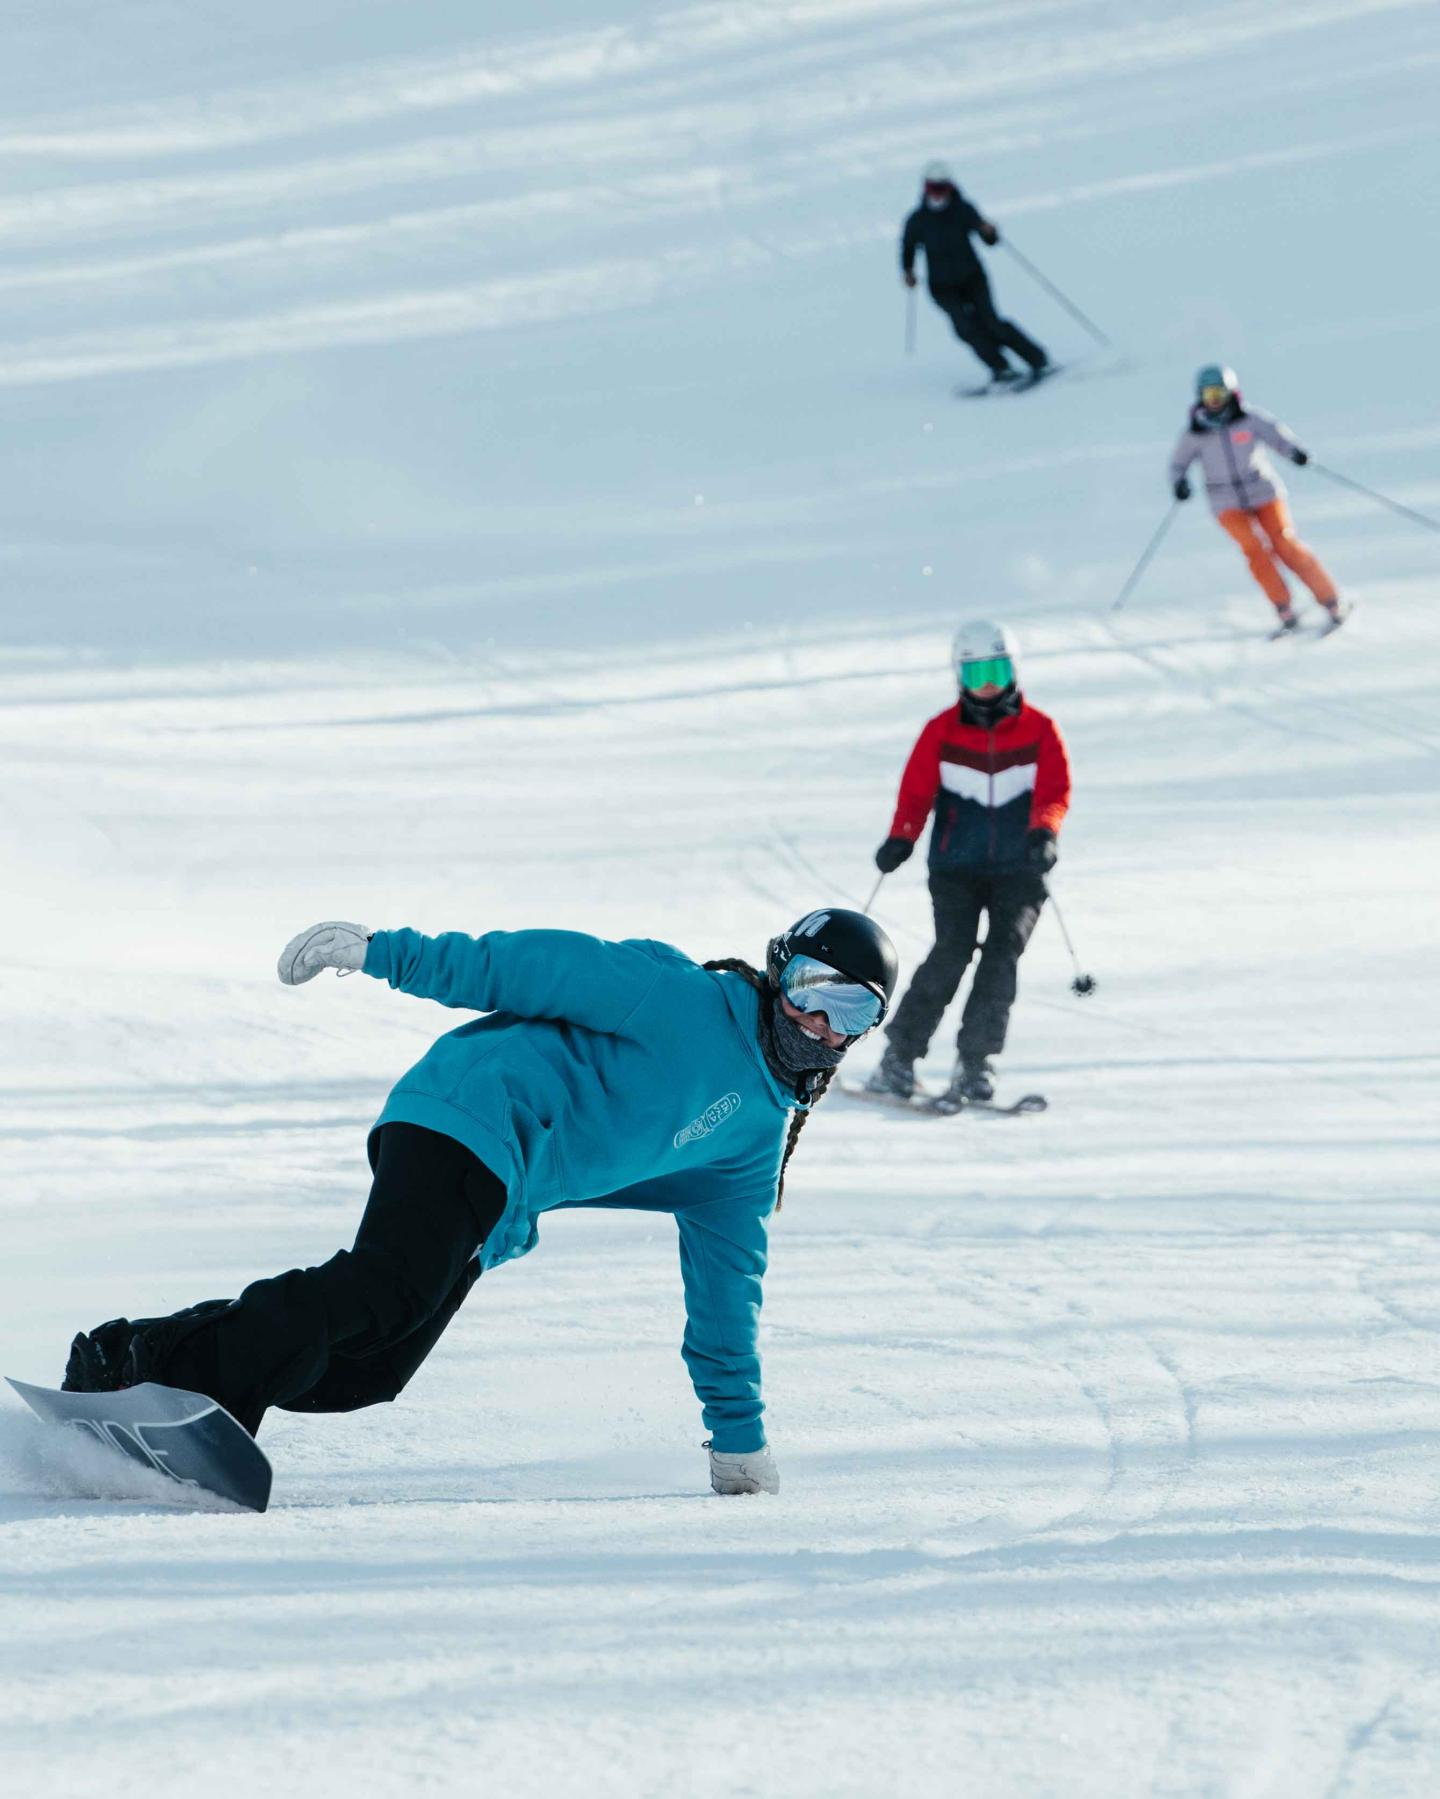skier: (855, 622, 1106, 1127), (1134, 350, 1436, 648)
snowboarder: (0, 902, 902, 1524)
